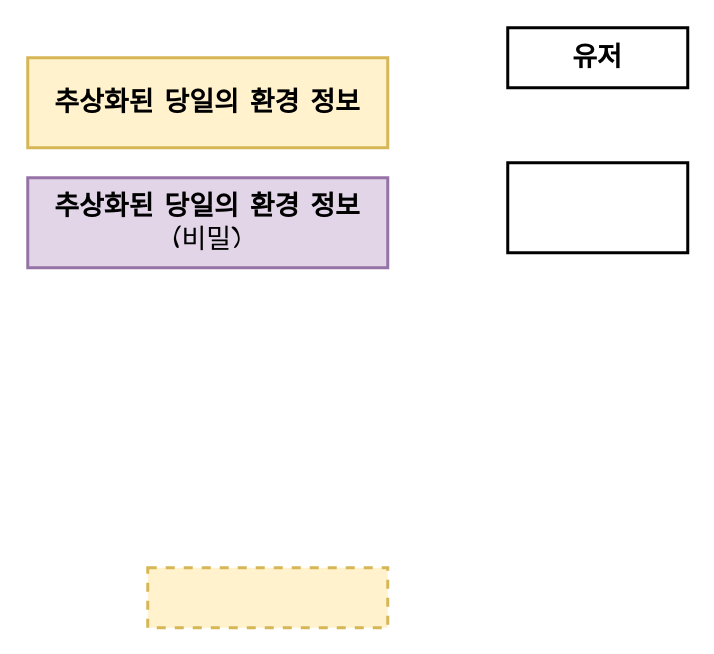
Some shapes in this 714 by 654 pixel diagram are drawn without their labels. Each missing label, with the centre of its shape:
LLM (GPT-4): [597,207]
기획자가 준비: [267,597]
